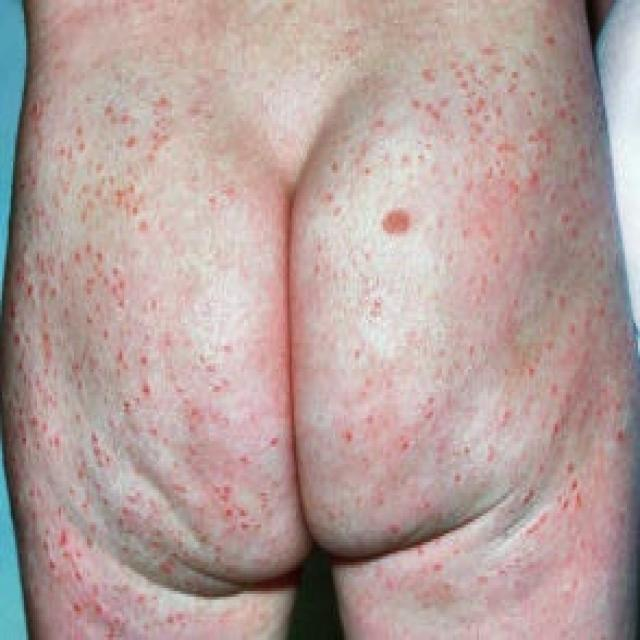Warts-Molluscum-and-other-Viral-Infections: (14, 70, 607, 605)
